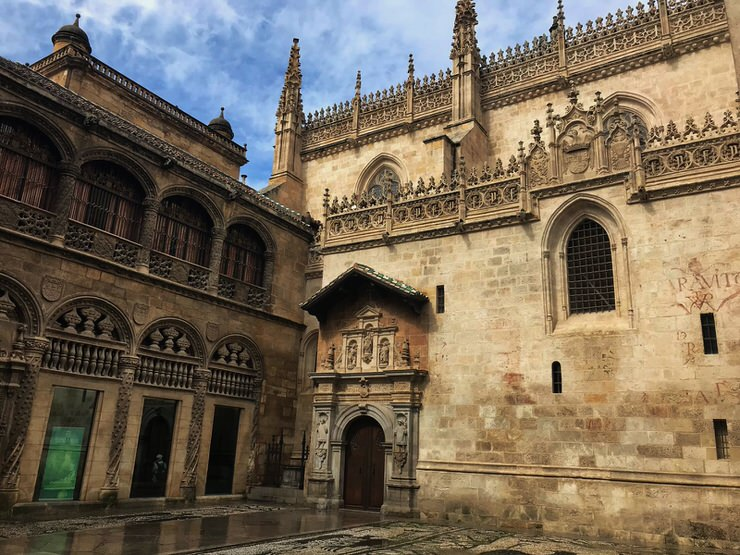arco-apuntado: (537, 189, 631, 264), (349, 150, 415, 191)
arco-medio-punto: (39, 294, 132, 372), (132, 314, 206, 378), (206, 333, 265, 384), (336, 405, 389, 452)
fronton: (353, 304, 382, 318)
pinaculo-gotico: (275, 36, 306, 117), (447, 1, 483, 62)
